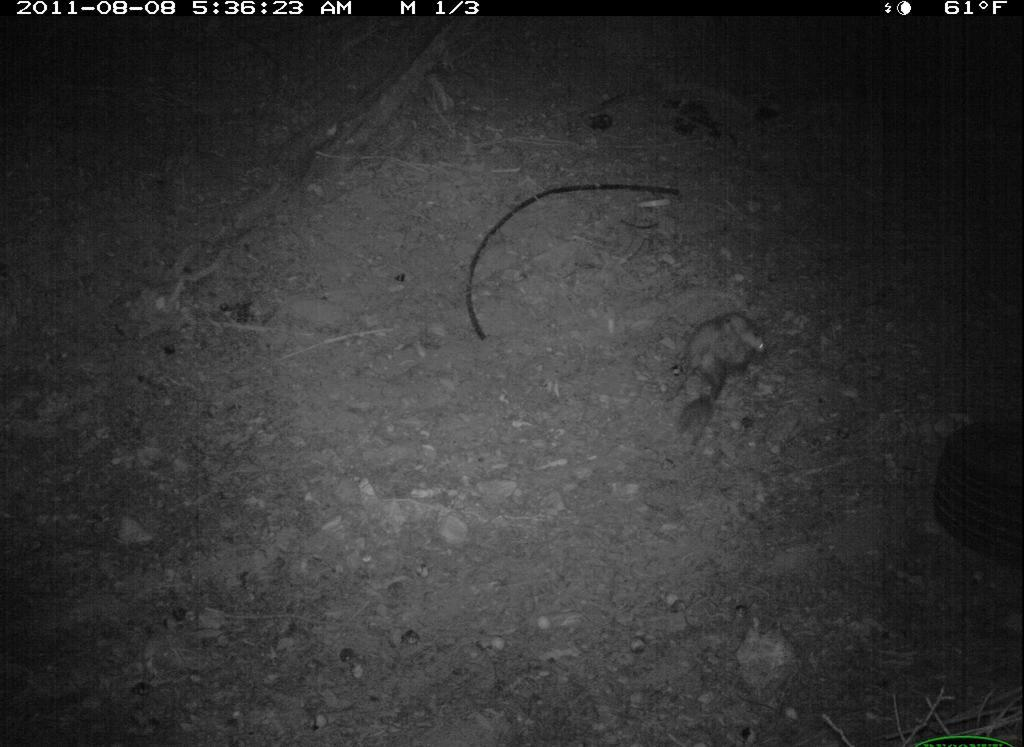opossum: (670, 304, 780, 440)
